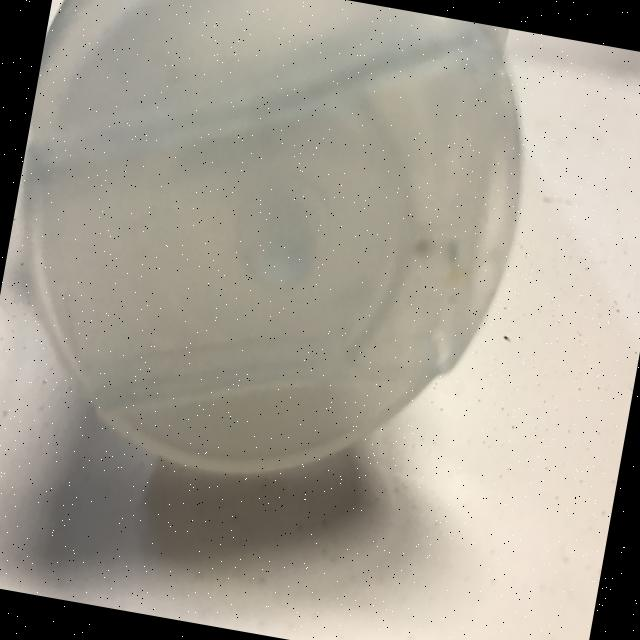plastic: (0, 0, 552, 517)
